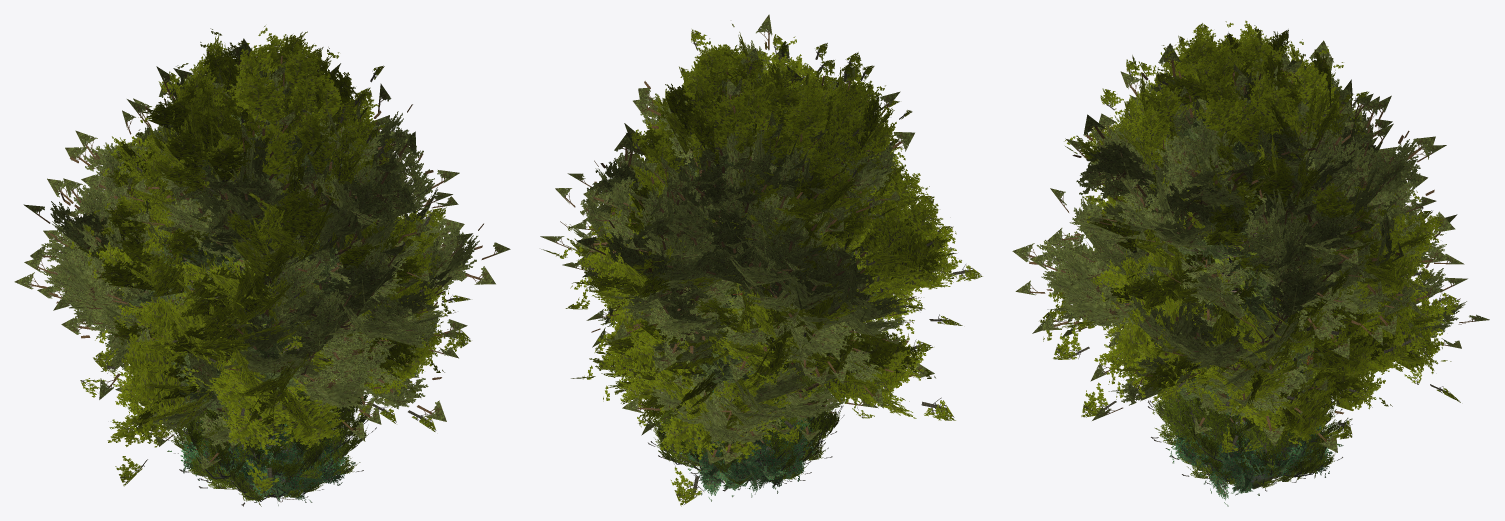
The model's file is Foliage.gltf.
3 views of the same model, side by side, from view 1: azimuth 30°, elevation 25°; view 2: azimuth 150°, elevation 25°; view 3: azimuth 270°, elevation 25° (orthographic). The views are drawn at different scales.
Parts seen in each view (by area): view 1: Maple_1, Oak_1, Shrub_1, Pine_1, HollyShrub_1; view 2: Maple_1, Oak_1, Shrub_1, HollyShrub_1, Pine_1; view 3: Oak_1, Maple_1, Shrub_1, Pine_1, HollyShrub_1, Ash_1.
Boxes of the visible parts, bbox=[...] form: Maple_1: bbox=[67, 25, 470, 493]; Oak_1: bbox=[14, 38, 510, 471]; Shrub_1: bbox=[165, 349, 376, 506]; Pine_1: bbox=[118, 101, 355, 413]; HollyShrub_1: bbox=[167, 392, 355, 505]; Maple_1: bbox=[541, 24, 982, 506]; Oak_1: bbox=[540, 14, 934, 464]; Shrub_1: bbox=[645, 358, 844, 491]; HollyShrub_1: bbox=[658, 374, 817, 501]; Pine_1: bbox=[620, 110, 877, 392]; Oak_1: bbox=[1012, 40, 1489, 452]; Maple_1: bbox=[1039, 20, 1460, 453]; Shrub_1: bbox=[1148, 386, 1352, 491]; Pine_1: bbox=[1120, 87, 1346, 405]; HollyShrub_1: bbox=[1163, 394, 1343, 506]; Ash_1: bbox=[1197, 238, 1334, 396].
Bounding box in the file's own units: 18.74 × 19.69 × 19.31.
Materials: 17 (17 with a texture image).
